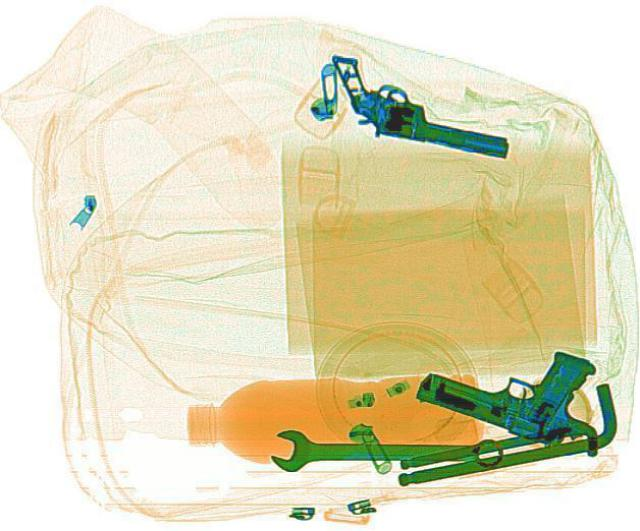Gun: (410, 317, 634, 457), (306, 53, 528, 162)
Wrench: (270, 427, 502, 471)
